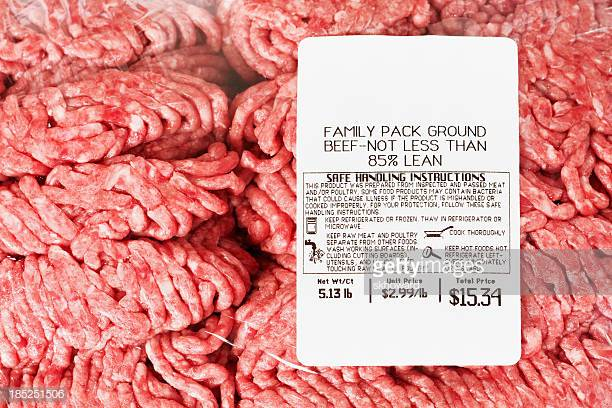ground_beef: (266, 23, 600, 408), (1, 20, 235, 387)
